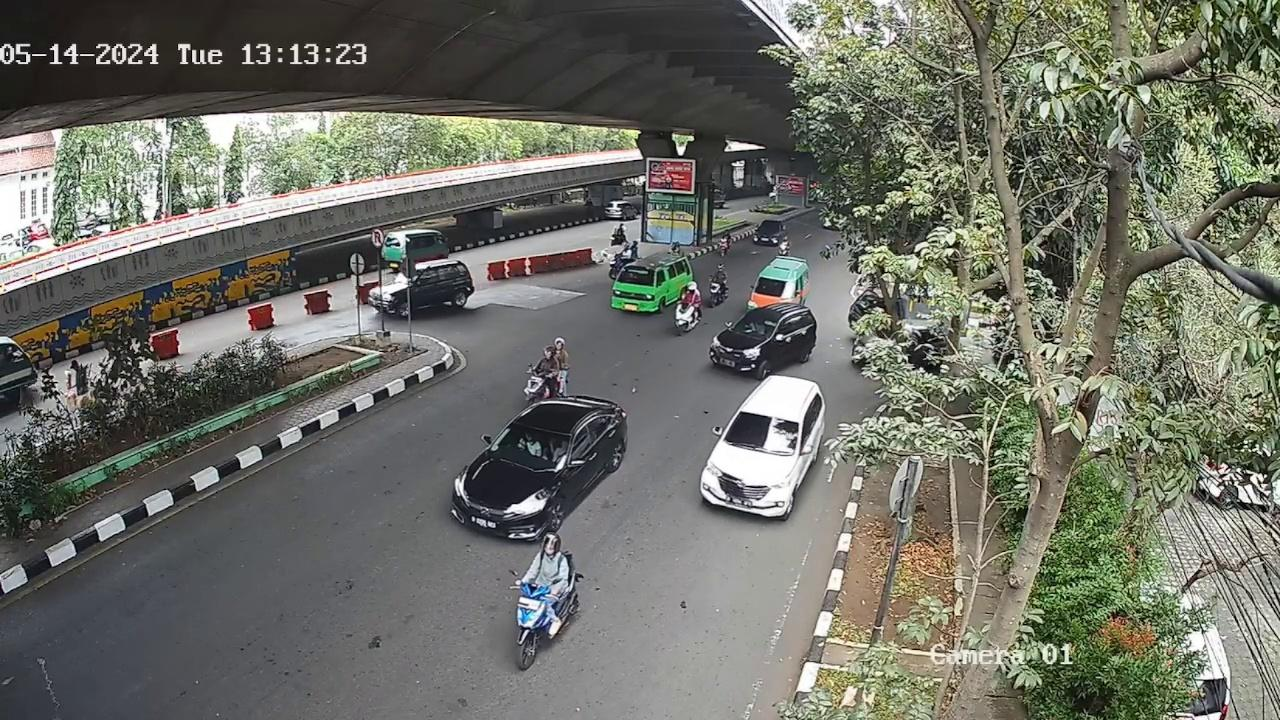pakai: (512, 432, 542, 455)
windshield: (492, 421, 573, 469), (722, 413, 800, 456)
